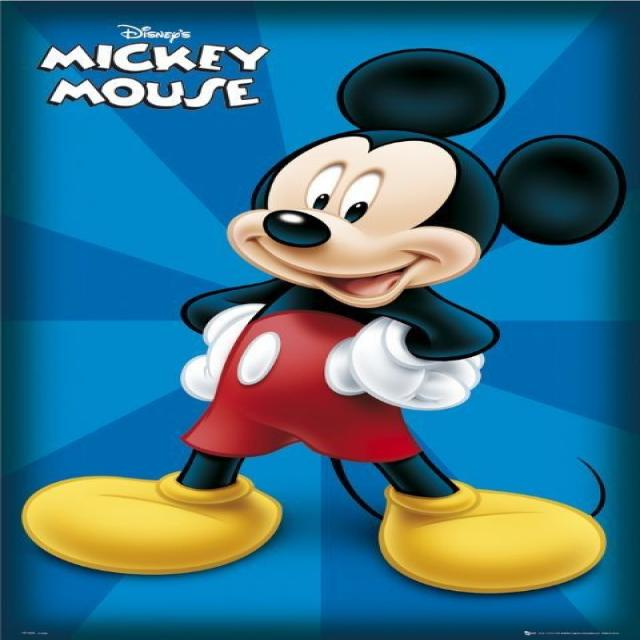mickey: (56, 47, 640, 593)
